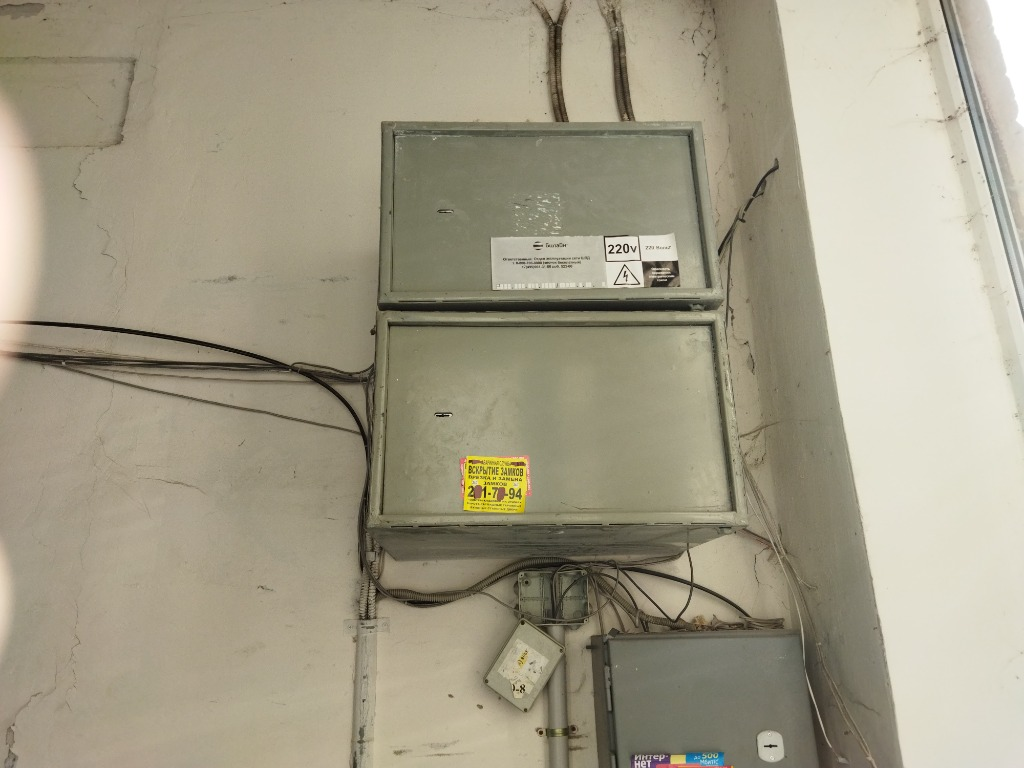e2-6u: (367, 111, 730, 307)
